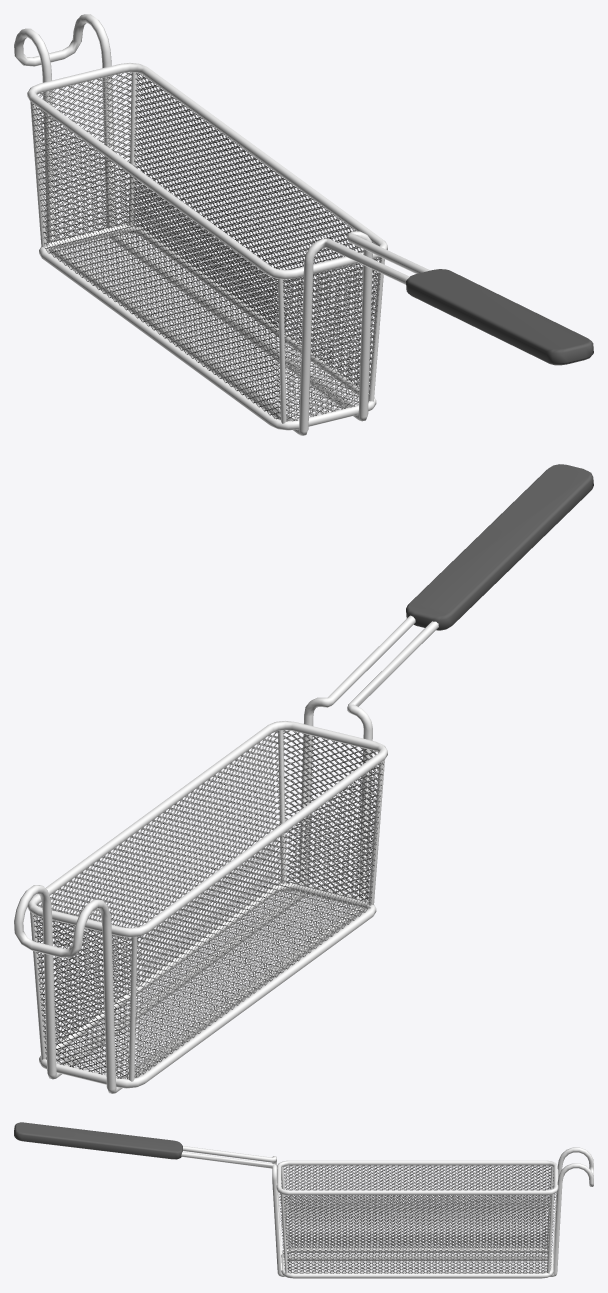
File: FryerBasket.fbx
3 renders of one model, top to bottom at view 1: azimuth 30°, elevation 25°; view 2: azimuth 150°, elevation 25°; view 3: azimuth 270°, elevation 25°, orthographic. The views are drawn at different scales.
Visible parts, largest first — view 1: Basket; view 2: Basket; view 3: Basket.
Boxes of the visible parts, x1,y1,x2,y2 form: Basket: (14, 14, 593, 435); Basket: (14, 464, 593, 1093); Basket: (14, 1122, 593, 1278).
Bounding box in the file's own units: 8 × 16.67 × 61.77.
